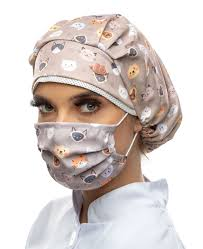with_mask_and_cap: (31, 38, 140, 191)
